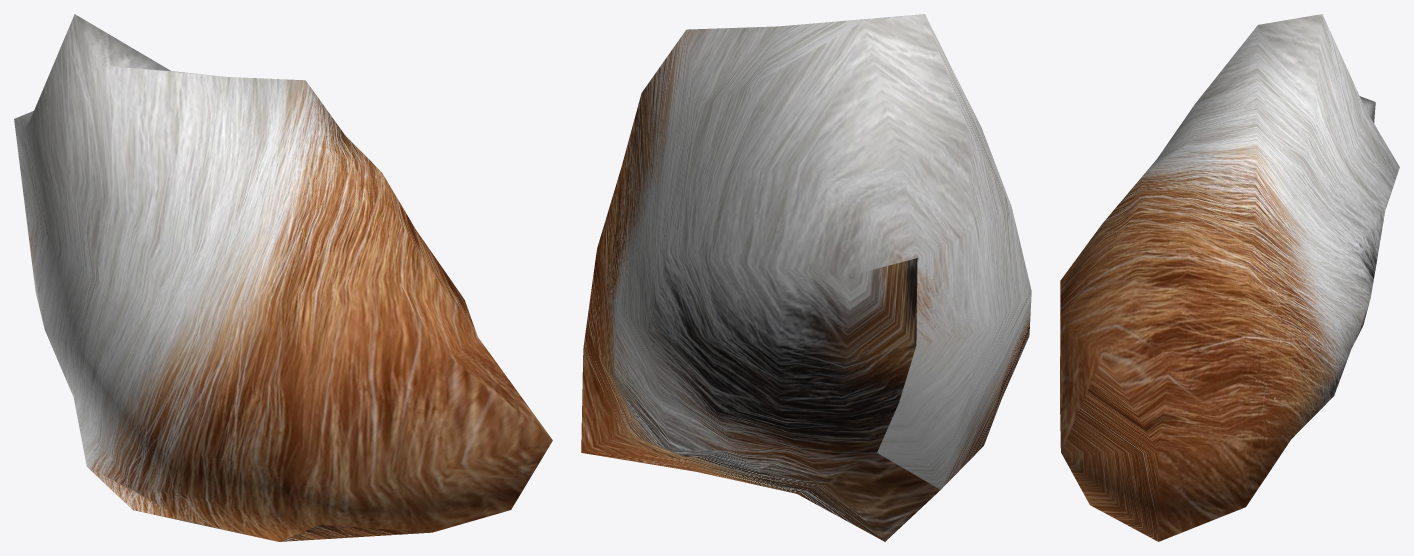
Rendered from catFur.fbx.
3 renders of one model, left to right at view 1: azimuth 30°, elevation 25°; view 2: azimuth 150°, elevation 25°; view 3: azimuth 270°, elevation 25°, orthographic. The views are drawn at different scales.
Visible parts, largest first — view 1: Cube; view 2: Cube; view 3: Cube.
Boxes of the visible parts, x1,y1,x2,y2 form: Cube: (14,14,552,541); Cube: (581,14,1031,541); Cube: (1060,14,1399,541).
Bounding box in the file's own units: 184 × 225 × 173.
1 material, 1 textured.
